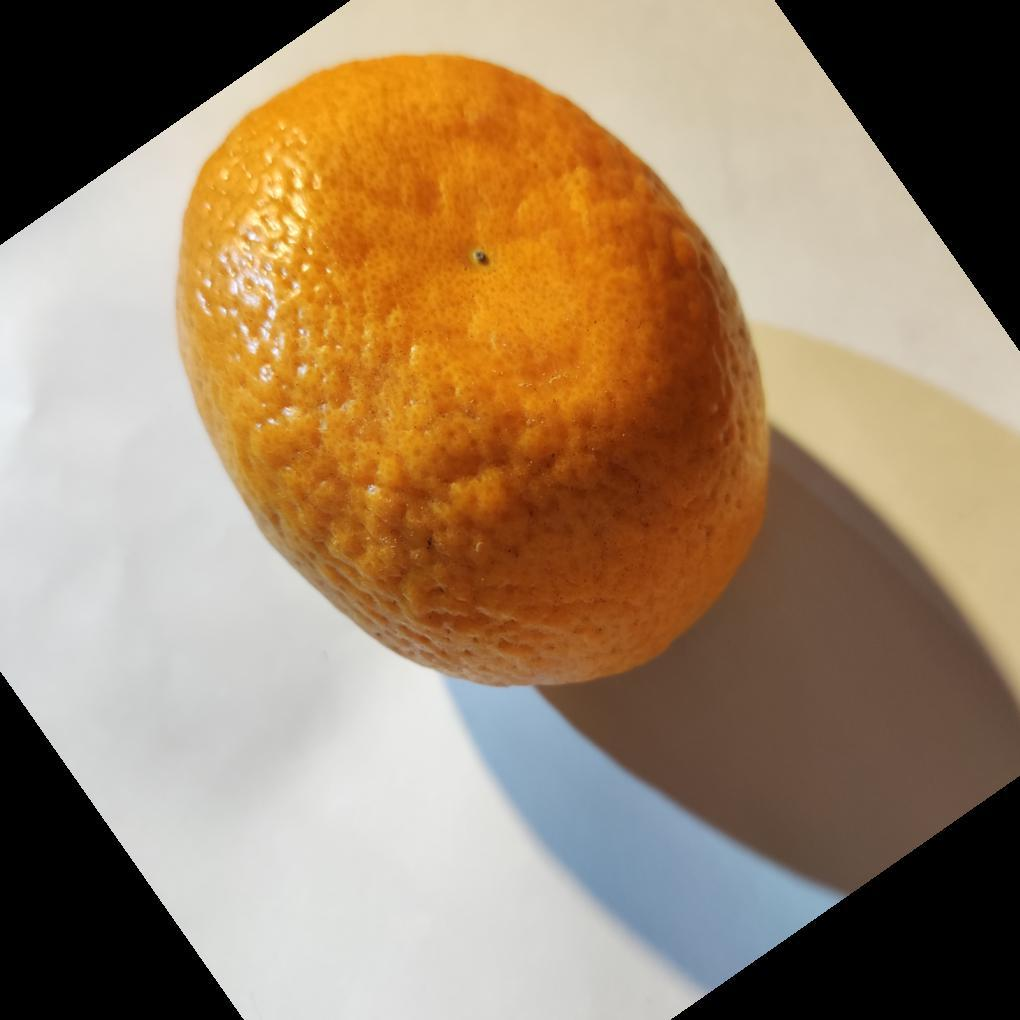FreshGuava: (173, 54, 772, 693)
